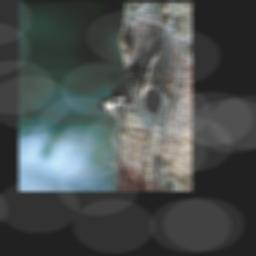Woodpecker: (96, 31, 163, 120)
